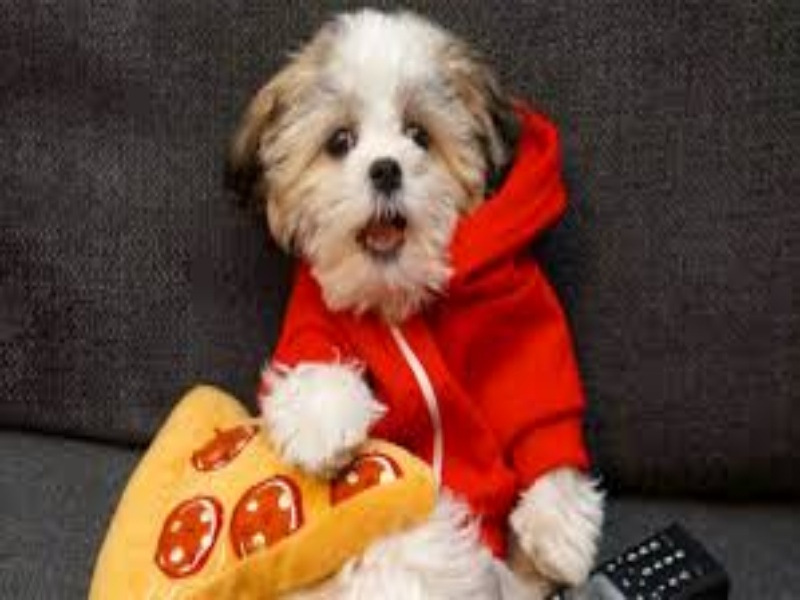dog: (221, 7, 610, 600)
